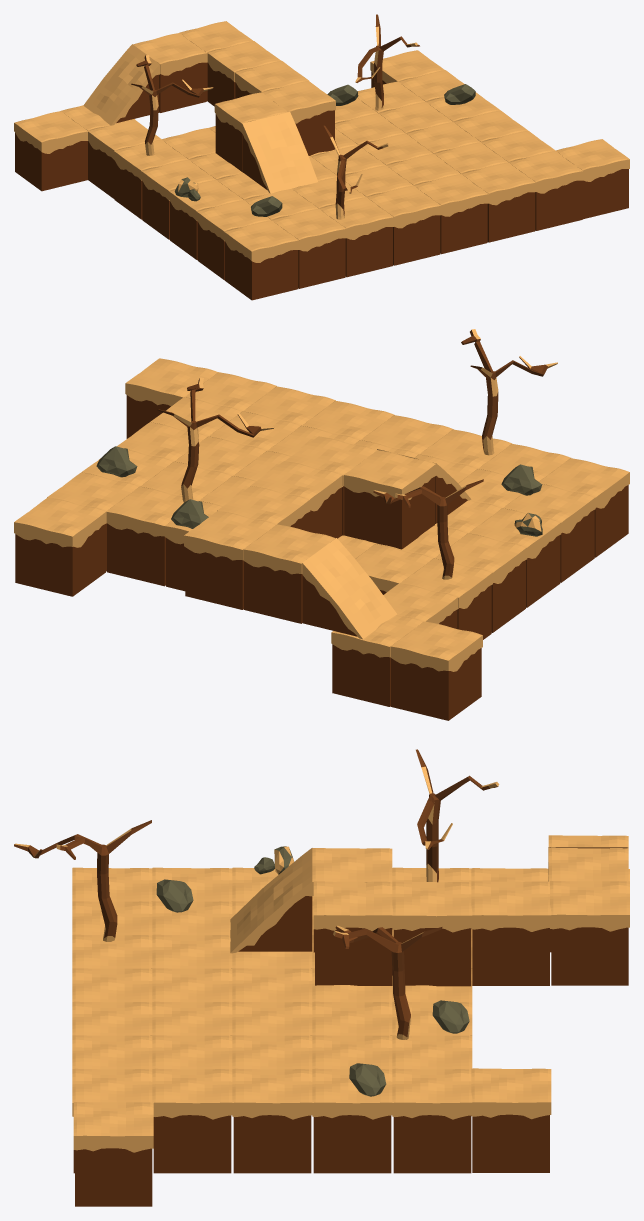
Rendered from IsometricTile_Between.fbx.
3 views of the same model, one above another, from view 1: azimuth 30°, elevation 25°; view 2: azimuth 150°, elevation 25°; view 3: azimuth 270°, elevation 25° (orthographic). The views are drawn at different scales.
Parts seen in each view (by area): view 1: Cube.002, Cube.013, Cube.004, Cube.015, Cube.011, Cube.009, Cube.005, Cube.003, Cube.010, Cube.007, Cube.006, Cube.014 (+8 smaller); view 2: Cube.002, Cube.014, Cube.013, Cube.003, Cube.011, Cube.008, Cube.009, Cube.012, Cube.015, Cube.006, Cube.007, Cube.010 (+8 smaller); view 3: Cube.002, Cube.015, Cube.014, Cube.008, Cube.007, Cube.006, Cube.005, Cube.004, Cube.003, Cube.009, Cylinder.001, Cylinder.002 (+6 smaller).
Boxes of the visible parts, x1,y1,x2,y2 form: Cube.002: (113, 70, 583, 300); Cube.013: (14, 111, 87, 191); Cube.004: (242, 112, 317, 193); Cube.015: (556, 139, 629, 219); Cube.011: (83, 44, 159, 125); Cube.009: (133, 33, 207, 112); Cube.005: (262, 81, 335, 155); Cube.003: (214, 92, 288, 172); Cube.010: (88, 119, 161, 199); Cube.007: (207, 41, 280, 106); Cube.006: (235, 60, 308, 98); Cube.014: (370, 50, 444, 87); Cube.002: (47, 372, 629, 639); Cube.014: (14, 497, 106, 596); Cube.013: (390, 621, 482, 720); Cube.003: (343, 450, 436, 549); Cube.011: (302, 538, 396, 639); Cube.008: (184, 511, 276, 609); Cube.009: (243, 524, 335, 623); Cube.012: (331, 615, 423, 706); Cube.015: (125, 358, 218, 438); Cube.006: (250, 461, 343, 538); Cube.007: (217, 486, 310, 531); Cube.010: (383, 583, 458, 628); Cube.002: (72, 867, 472, 1173); Cube.015: (73, 1102, 153, 1206); Cube.014: (471, 1068, 551, 1172); Cube.008: (550, 881, 629, 985); Cube.007: (471, 881, 551, 985); Cube.006: (392, 881, 472, 986); Cube.005: (313, 881, 393, 985); Cube.004: (230, 848, 312, 953); Cube.003: (312, 848, 392, 952); Cube.009: (548, 847, 628, 952); Cylinder.001: (14, 820, 151, 941); Cylinder.002: (333, 925, 442, 1039).
Bounding box in the file's own units: 9.16 × 2.71 × 7.94.
